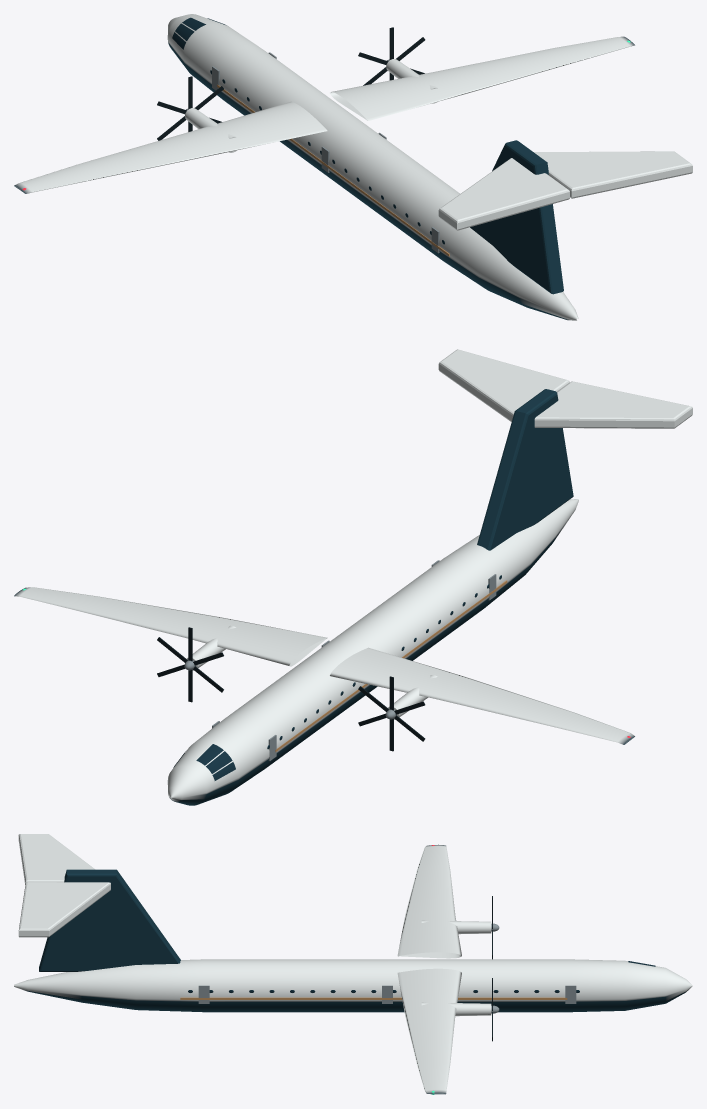
The picture shows the model from 3 angles, top to bottom: view 1: azimuth 30°, elevation 25°; view 2: azimuth 150°, elevation 25°; view 3: azimuth 270°, elevation 25°; orthographic projection. The views are drawn at different scales.
Bounding box in the file's own units: 28.42 × 7.24 × 32.83.
